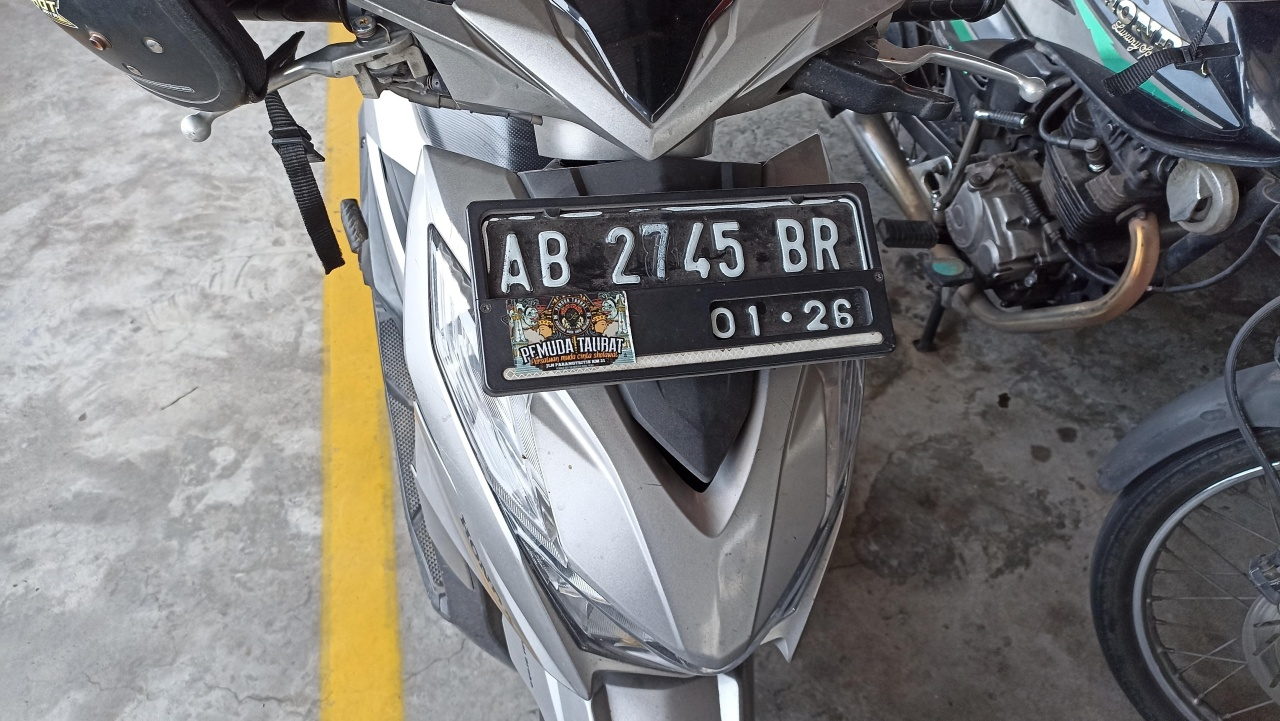plate: (476, 187, 892, 386)
